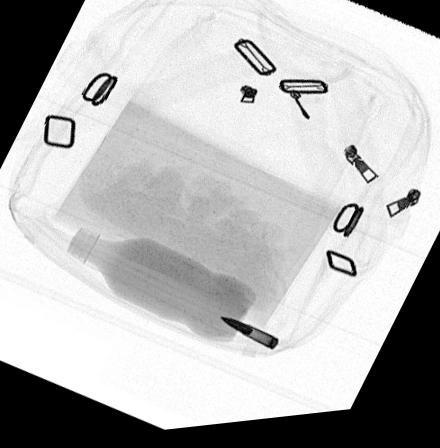Bullet: (220, 323, 280, 357)
